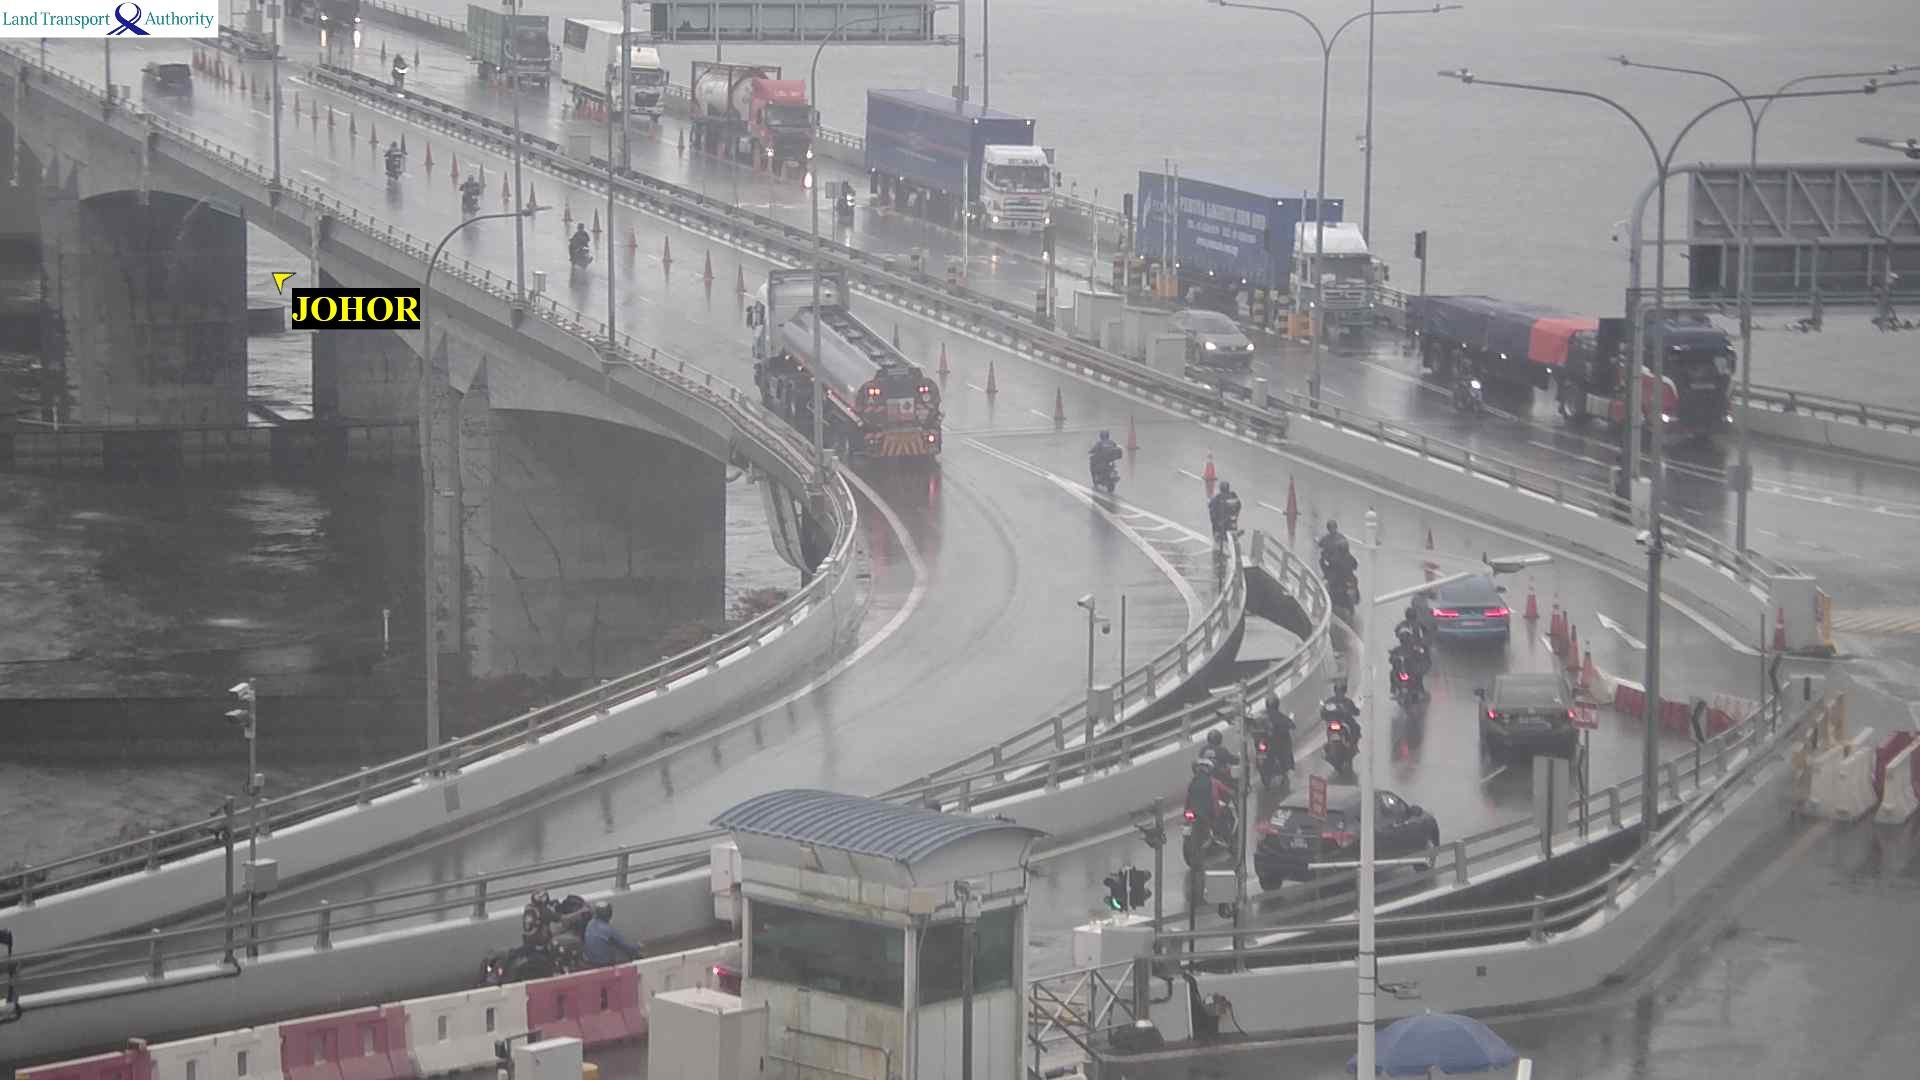vehicle-secondlink-johor: (753, 274, 940, 476), (1269, 790, 1456, 864), (1402, 575, 1519, 644), (487, 895, 591, 969), (560, 901, 657, 971), (1478, 678, 1573, 745), (1188, 749, 1234, 856), (1391, 640, 1429, 713), (1321, 524, 1354, 607), (1088, 430, 1122, 491), (1266, 690, 1288, 775), (1329, 683, 1353, 760), (1211, 481, 1238, 538), (149, 65, 189, 98), (456, 170, 477, 219), (570, 220, 592, 264), (385, 138, 404, 177)
vehicle-secondlink-singapore: (1407, 289, 1756, 400), (1143, 193, 1393, 319), (857, 103, 1058, 227), (537, 57, 819, 138), (468, 5, 550, 87), (1172, 310, 1251, 369), (278, 0, 361, 30), (1191, 315, 1251, 352), (837, 179, 855, 215), (389, 54, 406, 82)
